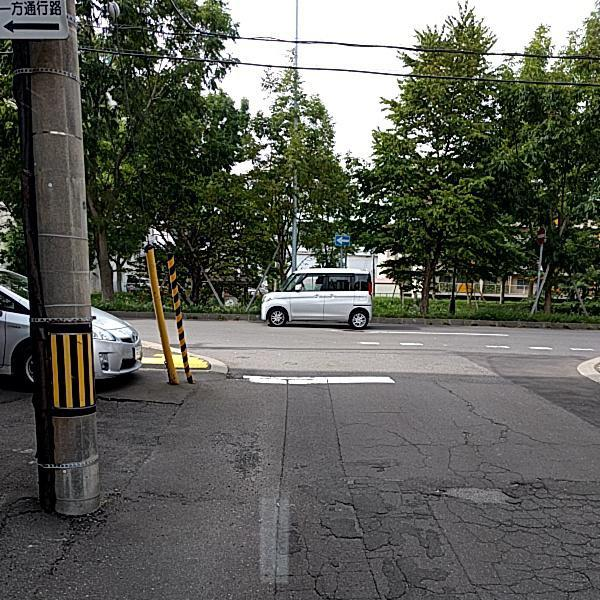D00: (433, 381, 516, 427)
D20: (268, 421, 599, 599)
D40: (430, 475, 529, 503)
